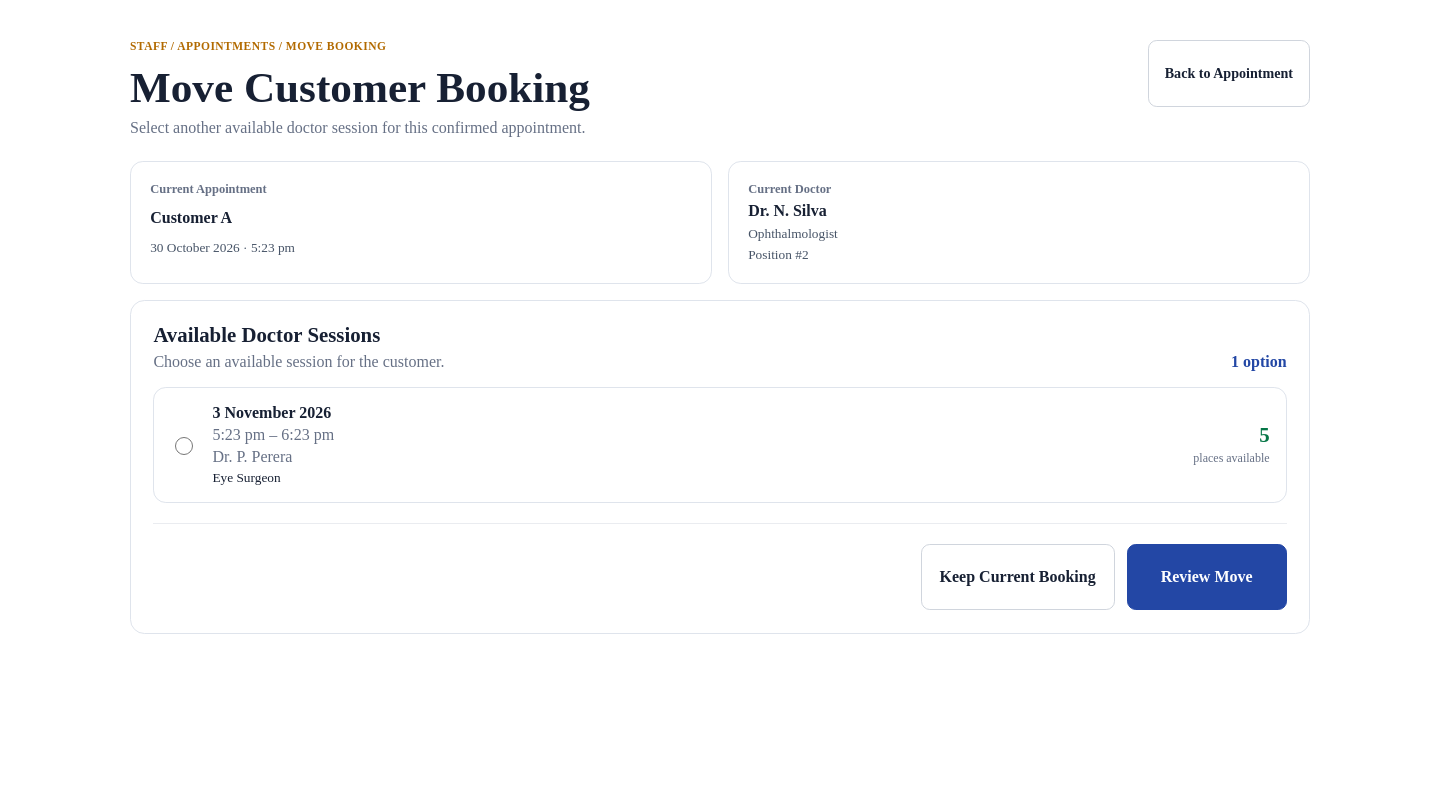
Test: StaffMoveAppointmentPage › shows confirmation before reassigning
Expected: the text "Dr. P. Perera" is shown, x1=212 y1=448 x2=292 y2=464
Click the radio button.
click(184, 446)  # box x1=175 y1=437 x2=193 y2=455
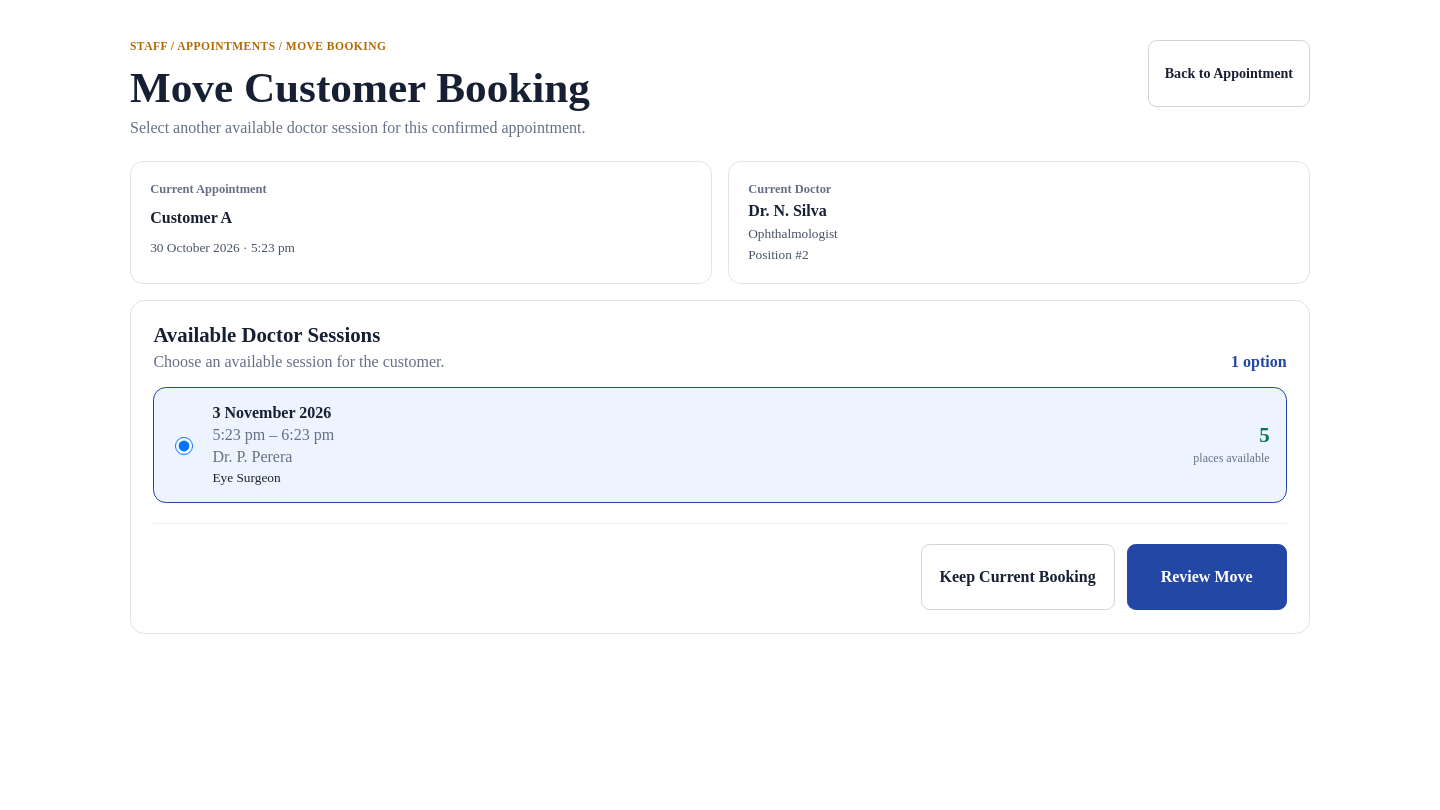
Click the button "Review Move".
click(1207, 577)  # box x1=1127 y1=544 x2=1287 y2=610
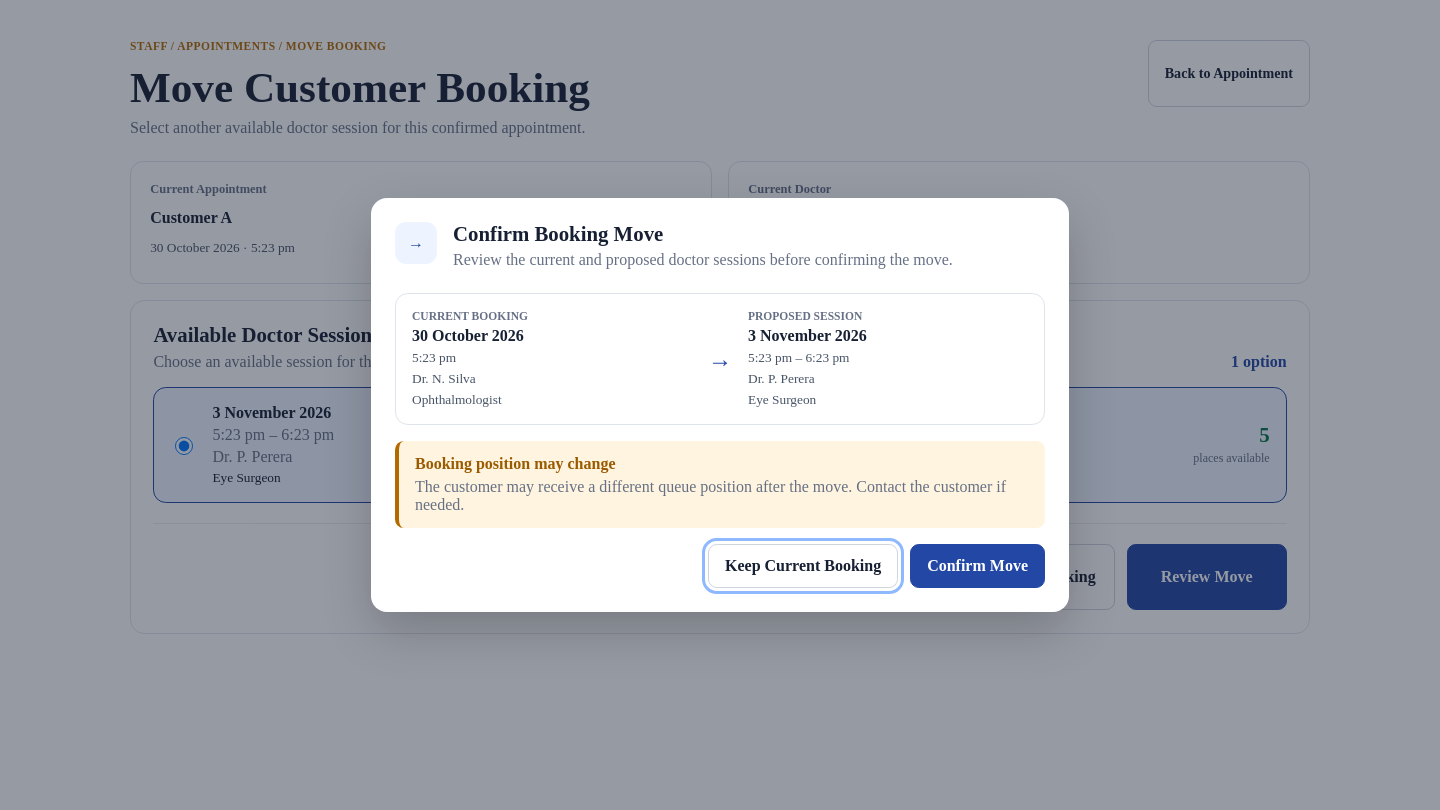
Now the dialog "Confirm Booking Move" is shown, box x1=371 y1=198 x2=1069 y2=612
